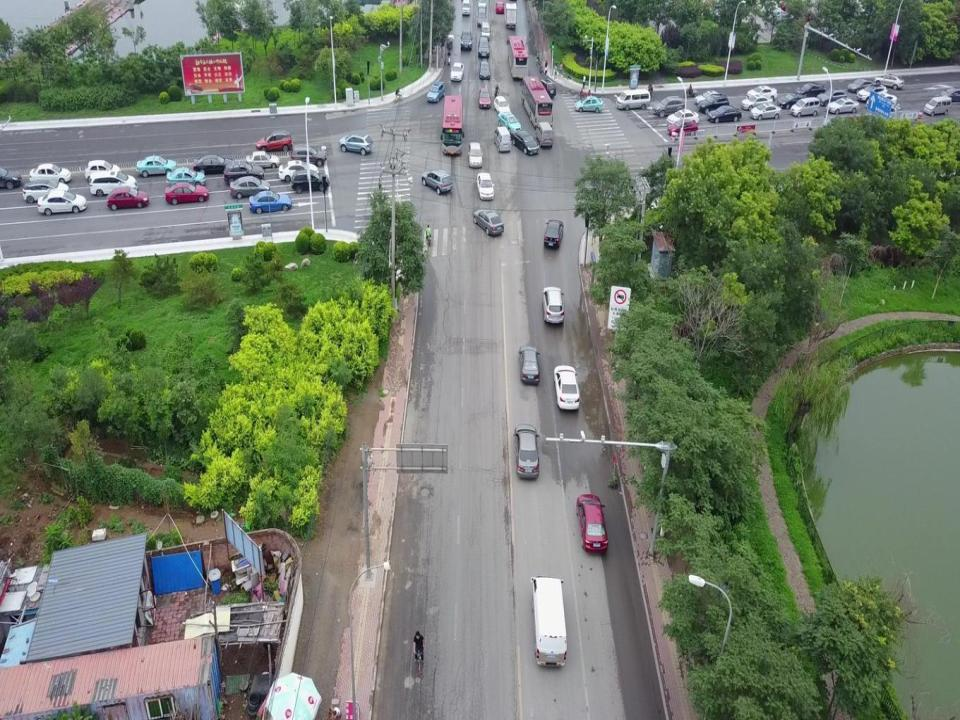bus: (520, 75, 554, 130), (440, 94, 464, 157), (506, 35, 530, 81)
car: (576, 493, 608, 555), (513, 423, 541, 481), (36, 190, 88, 216), (554, 364, 580, 412), (89, 172, 138, 197), (22, 179, 70, 204), (248, 190, 292, 215), (106, 186, 150, 211), (164, 182, 210, 205), (223, 161, 265, 186), (230, 175, 270, 201), (136, 153, 177, 178), (290, 168, 330, 193), (518, 344, 542, 385), (542, 285, 566, 326), (278, 160, 319, 184), (472, 208, 506, 236), (255, 129, 293, 154), (193, 154, 237, 175), (421, 168, 453, 196), (29, 164, 71, 185), (84, 160, 122, 183), (338, 132, 374, 156), (166, 166, 207, 187), (290, 145, 327, 167), (652, 95, 686, 118), (511, 130, 539, 156), (706, 104, 742, 124), (697, 93, 730, 114), (246, 150, 280, 170), (865, 91, 898, 111), (496, 111, 522, 136), (667, 118, 698, 138), (749, 102, 781, 121), (544, 220, 564, 250), (857, 82, 887, 102), (666, 108, 699, 126), (740, 94, 774, 111), (826, 97, 860, 114), (746, 85, 778, 102), (574, 94, 603, 112), (817, 88, 846, 106), (476, 173, 495, 200), (794, 82, 826, 98), (873, 74, 905, 90), (777, 93, 807, 110), (0, 167, 22, 190), (847, 78, 878, 93), (493, 95, 512, 118), (426, 82, 446, 103), (539, 78, 556, 99), (694, 90, 720, 103), (939, 86, 960, 102), (459, 28, 473, 52), (478, 88, 492, 109), (450, 62, 464, 82), (477, 37, 490, 57), (479, 61, 491, 80), (477, 8, 488, 28), (495, 1, 504, 15), (477, 0, 487, 8)
truck: (504, 2, 517, 30)
van: (530, 574, 568, 668), (615, 89, 651, 111), (789, 96, 820, 118), (923, 95, 952, 117), (534, 121, 554, 148), (493, 126, 512, 154), (467, 142, 484, 169), (480, 22, 491, 42), (461, 0, 471, 16)
